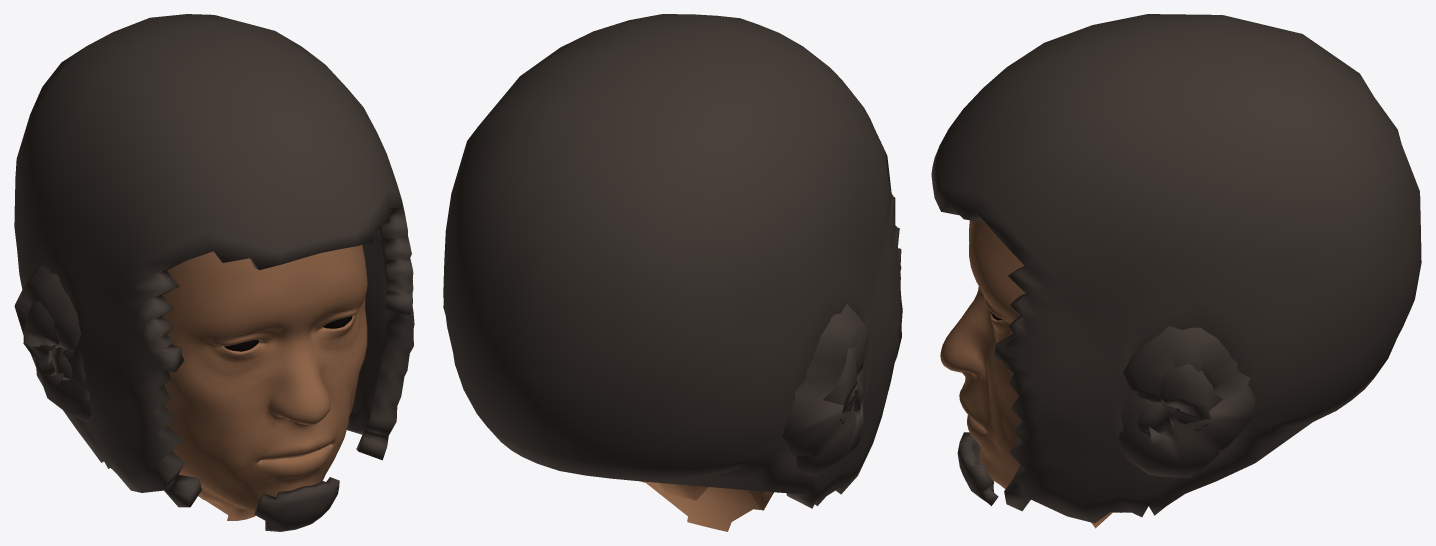
File: SM_Part_M2_head.gltf
3 views of the same model, side by side, from view 1: azimuth 30°, elevation 25°; view 2: azimuth 150°, elevation 25°; view 3: azimuth 270°, elevation 25° (orthographic). The views are drawn at different scales.
Visible parts, largest first — view 1: SM_Part_M2_head; view 2: SM_Part_M2_head; view 3: SM_Part_M2_head.
Part boxes in pixels (x1,y1,x2,y2): SM_Part_M2_head: (14,14,414,531); SM_Part_M2_head: (443,14,902,531); SM_Part_M2_head: (931,14,1421,528).
Size of the model in its own units: 0.2185 by 0.2706 by 0.2458.
